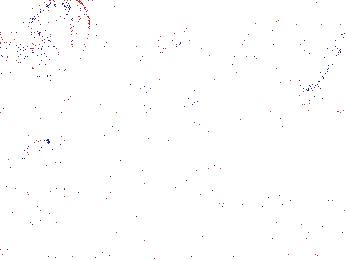moon jellyfish: (10, 1, 91, 77), (142, 36, 218, 104), (297, 22, 346, 115), (166, 9, 258, 46), (1, 123, 52, 165)
